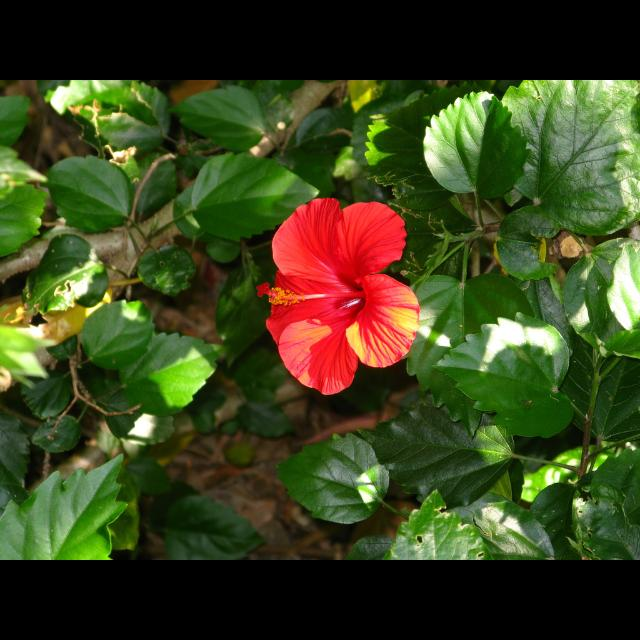Flower: (255, 202, 420, 392)
